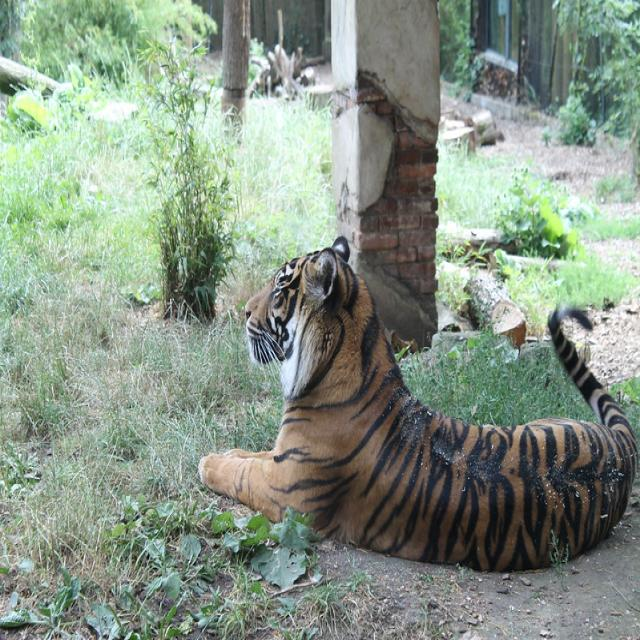Tiger: (195, 228, 636, 572)
